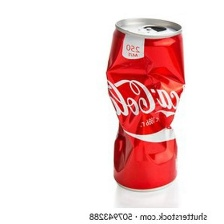can: (100, 17, 188, 197)
